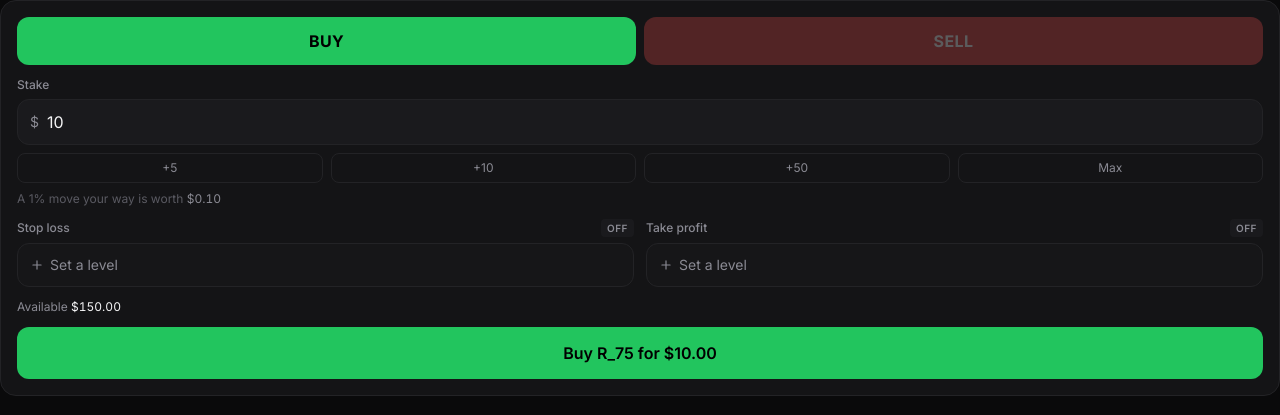
Scenario: OrderTicket › names each level field for a screen reader
Click the button with aria-label "set stop loss" at (618, 228), box left=601, top=219, right=634, bottom=237
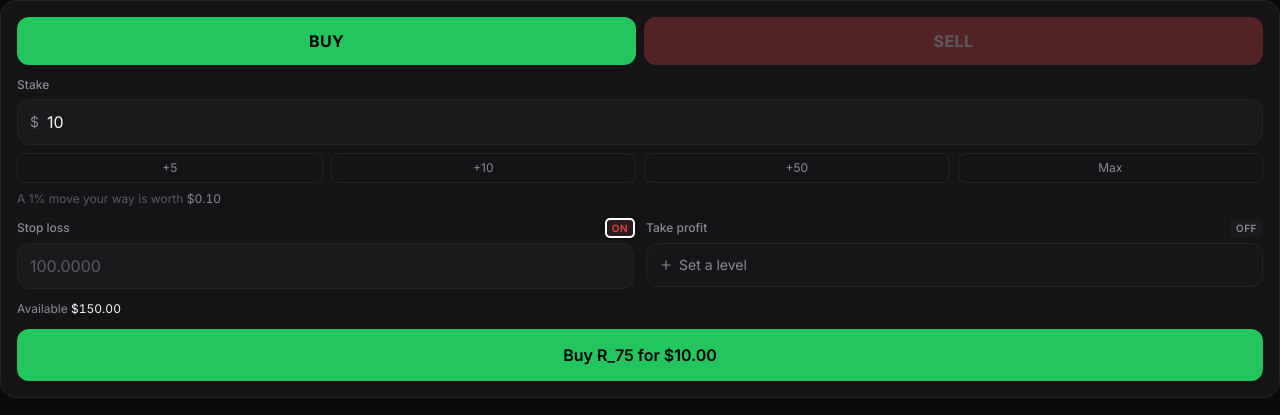
Click the button with aria-label "set take profit" at (1246, 228), box left=1230, top=219, right=1263, bottom=237
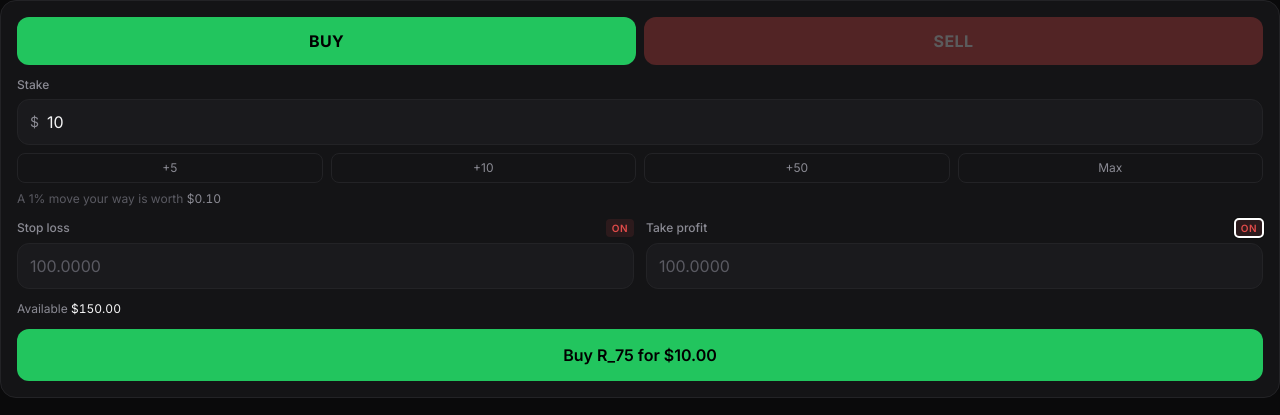
Expected: the field labelled "Stop loss" is shown, left=30, top=244, right=621, bottom=288
Expected: the field labelled "Take profit" is shown, left=659, top=244, right=1250, bottom=288
